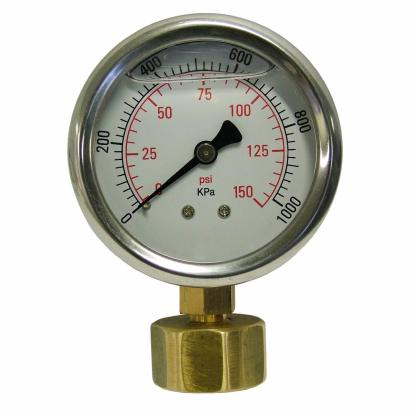needle: (137, 156, 200, 209)
